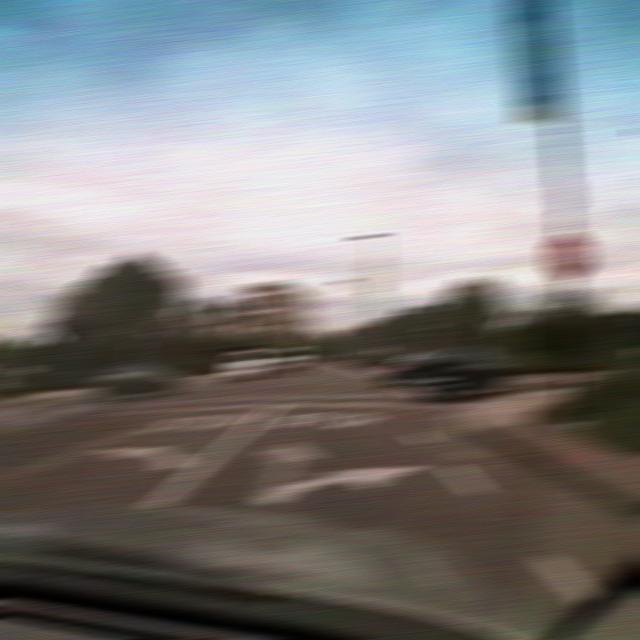stop_sign: (545, 231, 591, 278)
